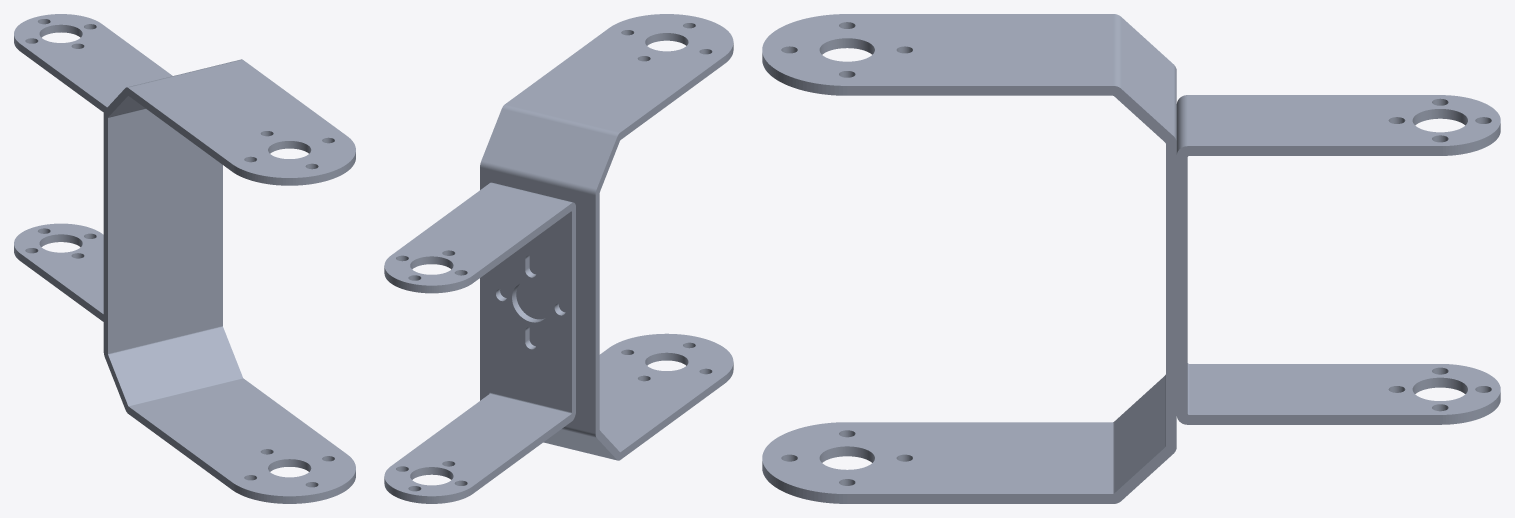
3 views of the same model, side by side, from view 1: azimuth 30°, elevation 25°; view 2: azimuth 150°, elevation 25°; view 3: azimuth 270°, elevation 25° (orthographic). The views are drawn at different scales.
Visible parts, largest first — view 1: node0, node1; view 2: node0, node1; view 3: node0, node1.
Boxes of the visible parts, x1,y1,x2,y2 form: node0: [103, 59, 355, 503]; node1: [14, 14, 172, 321]; node0: [480, 14, 733, 460]; node1: [384, 182, 575, 503]; node0: [762, 14, 1176, 503]; node1: [1176, 95, 1500, 424].
Size of the model in its own units: 0.0246 by 0.1067 by 0.0667.
